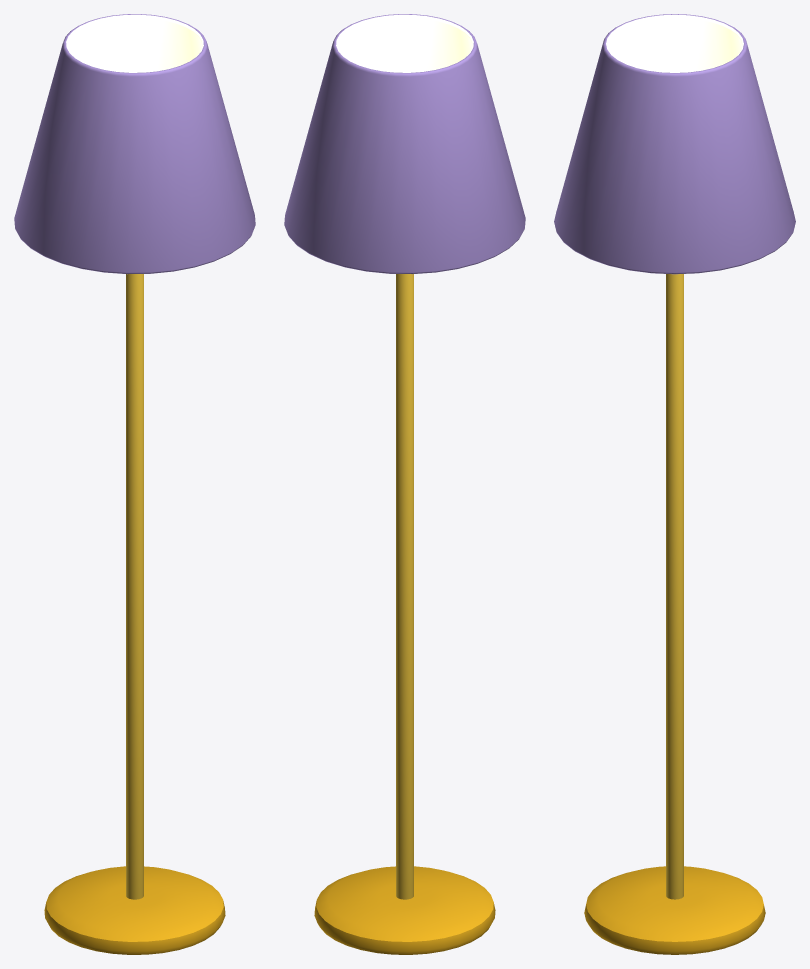
File: luminaria_chao_cupula.glb
The picture shows the model from 3 angles, left to right: view 1: azimuth 30°, elevation 25°; view 2: azimuth 150°, elevation 25°; view 3: azimuth 270°, elevation 25°; orthographic projection.
Visible parts, largest first — view 1: luminaria_chao_cupula; view 2: luminaria_chao_cupula; view 3: luminaria_chao_cupula.
Part boxes in pixels (x1,y1,x2,y2): luminaria_chao_cupula: (14, 14, 255, 954); luminaria_chao_cupula: (284, 14, 525, 954); luminaria_chao_cupula: (554, 14, 795, 954).
Size of the model in its own units: 0.4 by 1.59 by 0.4.
Materials: 2 (1 with a texture image).
